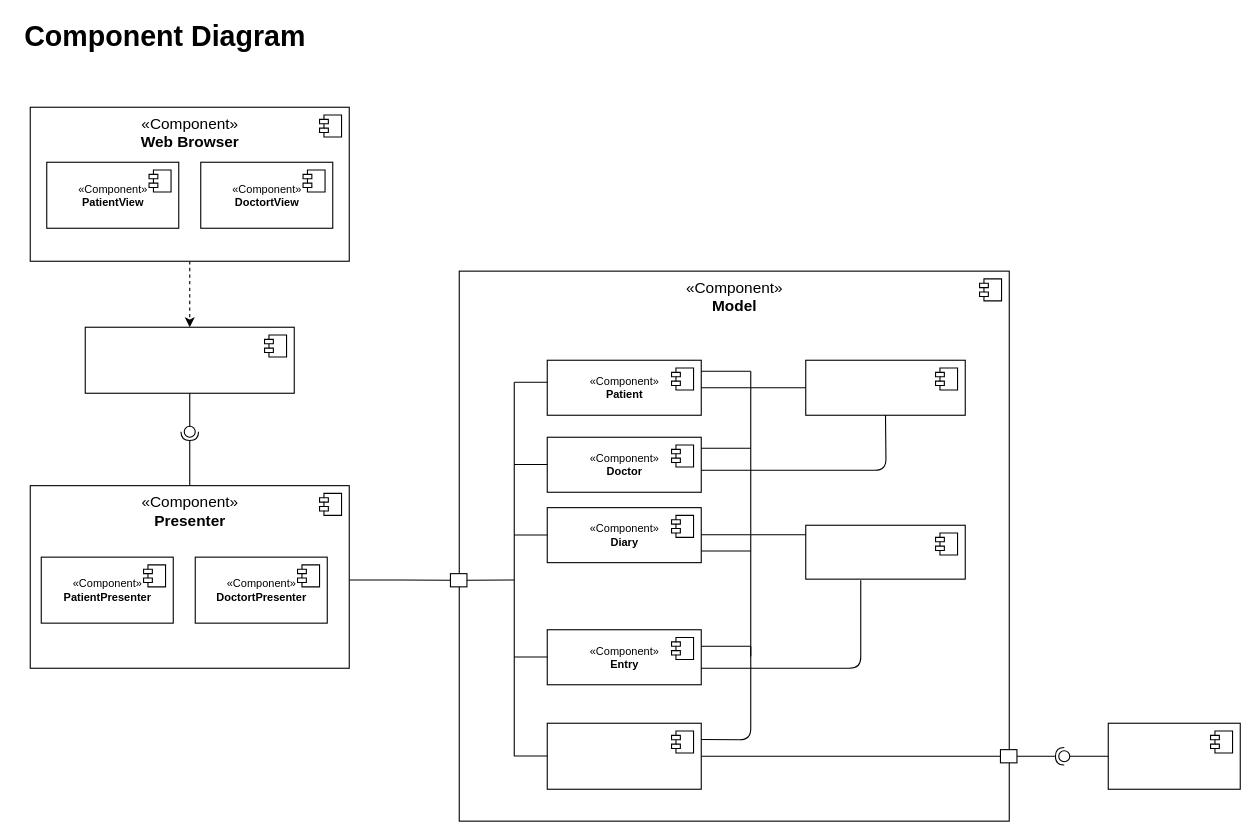
Image size: 1260x840. Some labels were removed from this diagram. Here are the shapes that lost their labels. From the top down, the centre of each, then its label:
At (189,359): "«Component» Vaadin".
At (885,387): "«Component» Alarm".
At (885,551): "«Component» Activity".
At (623,755): "«Component» Diary Manager".
At (1173,755): "«Component» Persistence".
